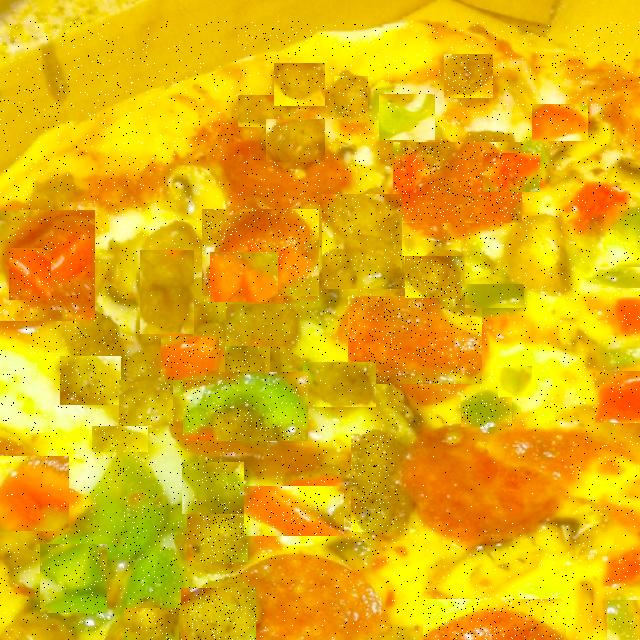Green Pepper: (66, 454, 166, 556), (183, 372, 308, 441), (40, 544, 107, 613), (182, 462, 244, 514), (129, 550, 187, 604), (379, 94, 435, 140), (461, 394, 512, 427), (465, 284, 524, 308), (607, 600, 640, 640), (498, 366, 532, 397), (599, 267, 640, 288), (625, 209, 640, 258)
Ham: (322, 194, 402, 289), (140, 250, 194, 334), (182, 588, 258, 640), (351, 434, 389, 532), (303, 362, 376, 407), (71, 316, 130, 370), (187, 512, 248, 562), (60, 356, 121, 405), (226, 304, 291, 346), (266, 119, 325, 162), (406, 256, 464, 298), (119, 380, 173, 425), (1, 608, 75, 640), (444, 54, 493, 99), (274, 63, 325, 106), (225, 344, 270, 392), (124, 608, 179, 640), (92, 426, 148, 452), (334, 76, 368, 118), (238, 95, 274, 127)
Pepperoni: (400, 425, 569, 523), (348, 296, 482, 384), (0, 210, 95, 321), (393, 142, 522, 223), (202, 210, 319, 298), (251, 562, 378, 640), (423, 599, 566, 640)
Pizza: (0, 21, 640, 640)
Tomato: (0, 456, 69, 531), (244, 486, 344, 536), (210, 254, 278, 304), (570, 186, 618, 240), (161, 337, 219, 380), (595, 371, 640, 423), (483, 153, 540, 192), (9, 248, 51, 300), (532, 104, 588, 141)
